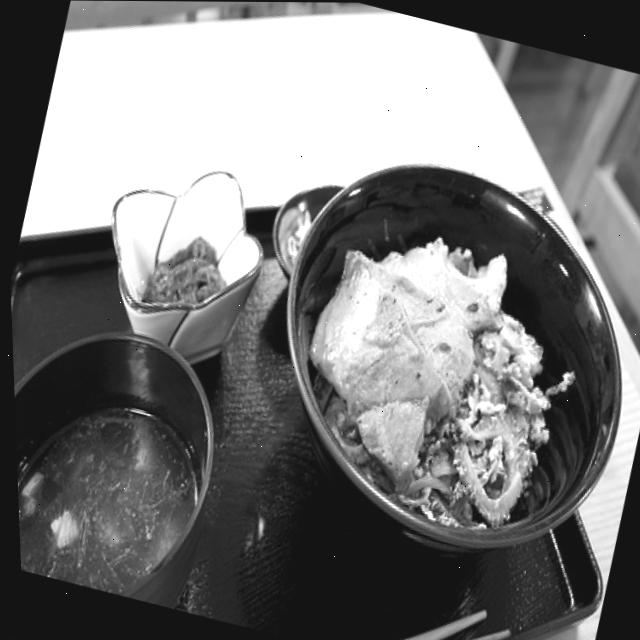熟制海鲜: (230, 126, 640, 578)
